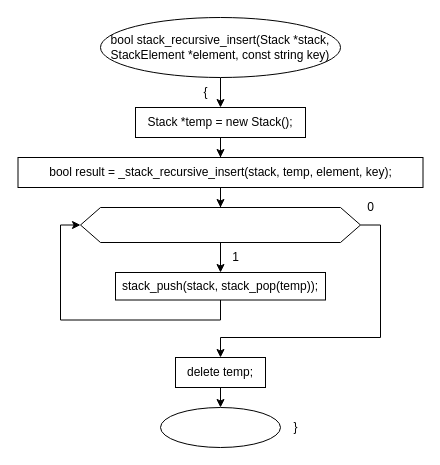
The diagram is 440 pixels wide and 465 high, and some of its shapes have lost their labels. The shapes that lost their labels are listed below. From the top down, each one's centre as x and y in pixels, then its label:
At [220,224]: "for (int i = 1, size = temp->size; i <= size; i++)".
At [220,427]: "return element;".
